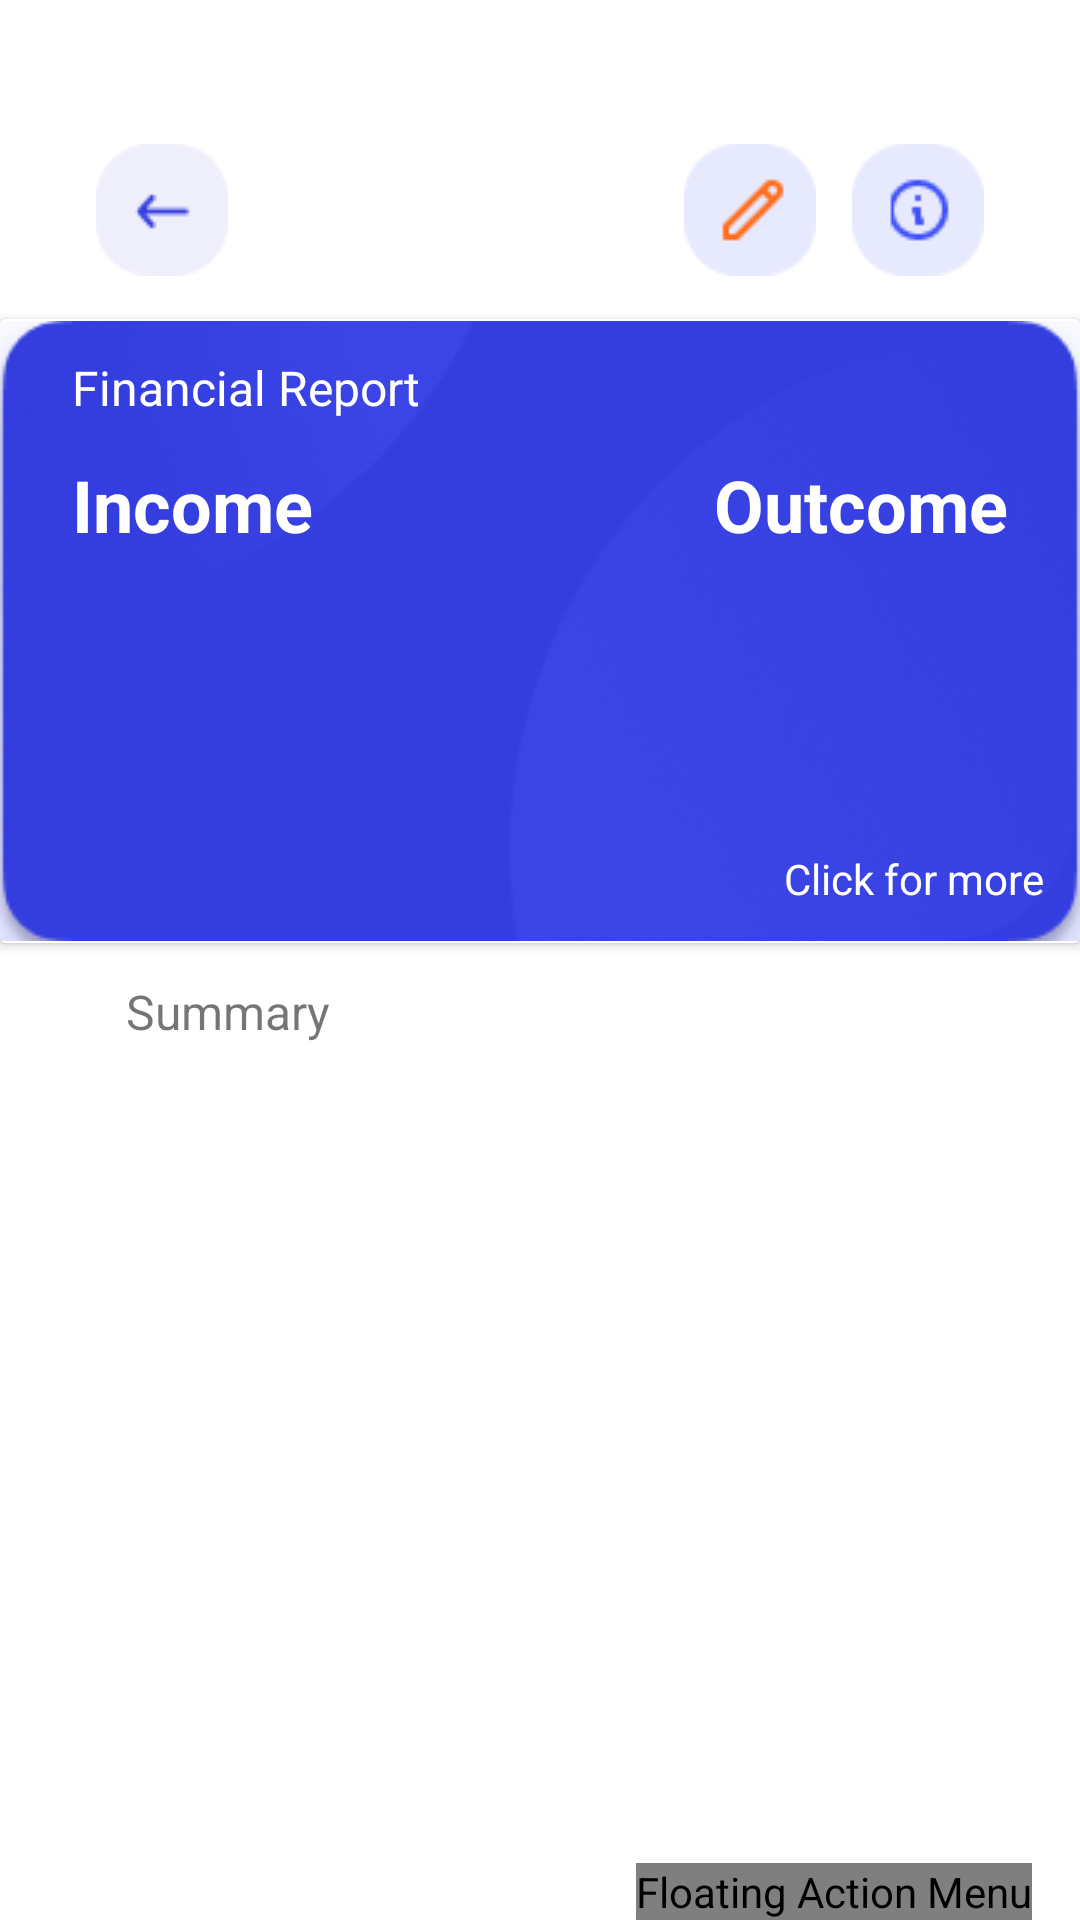

Where to tap for icons on this 1080x1920 app screen, as [x,y]:
Info Button: [919,210]
